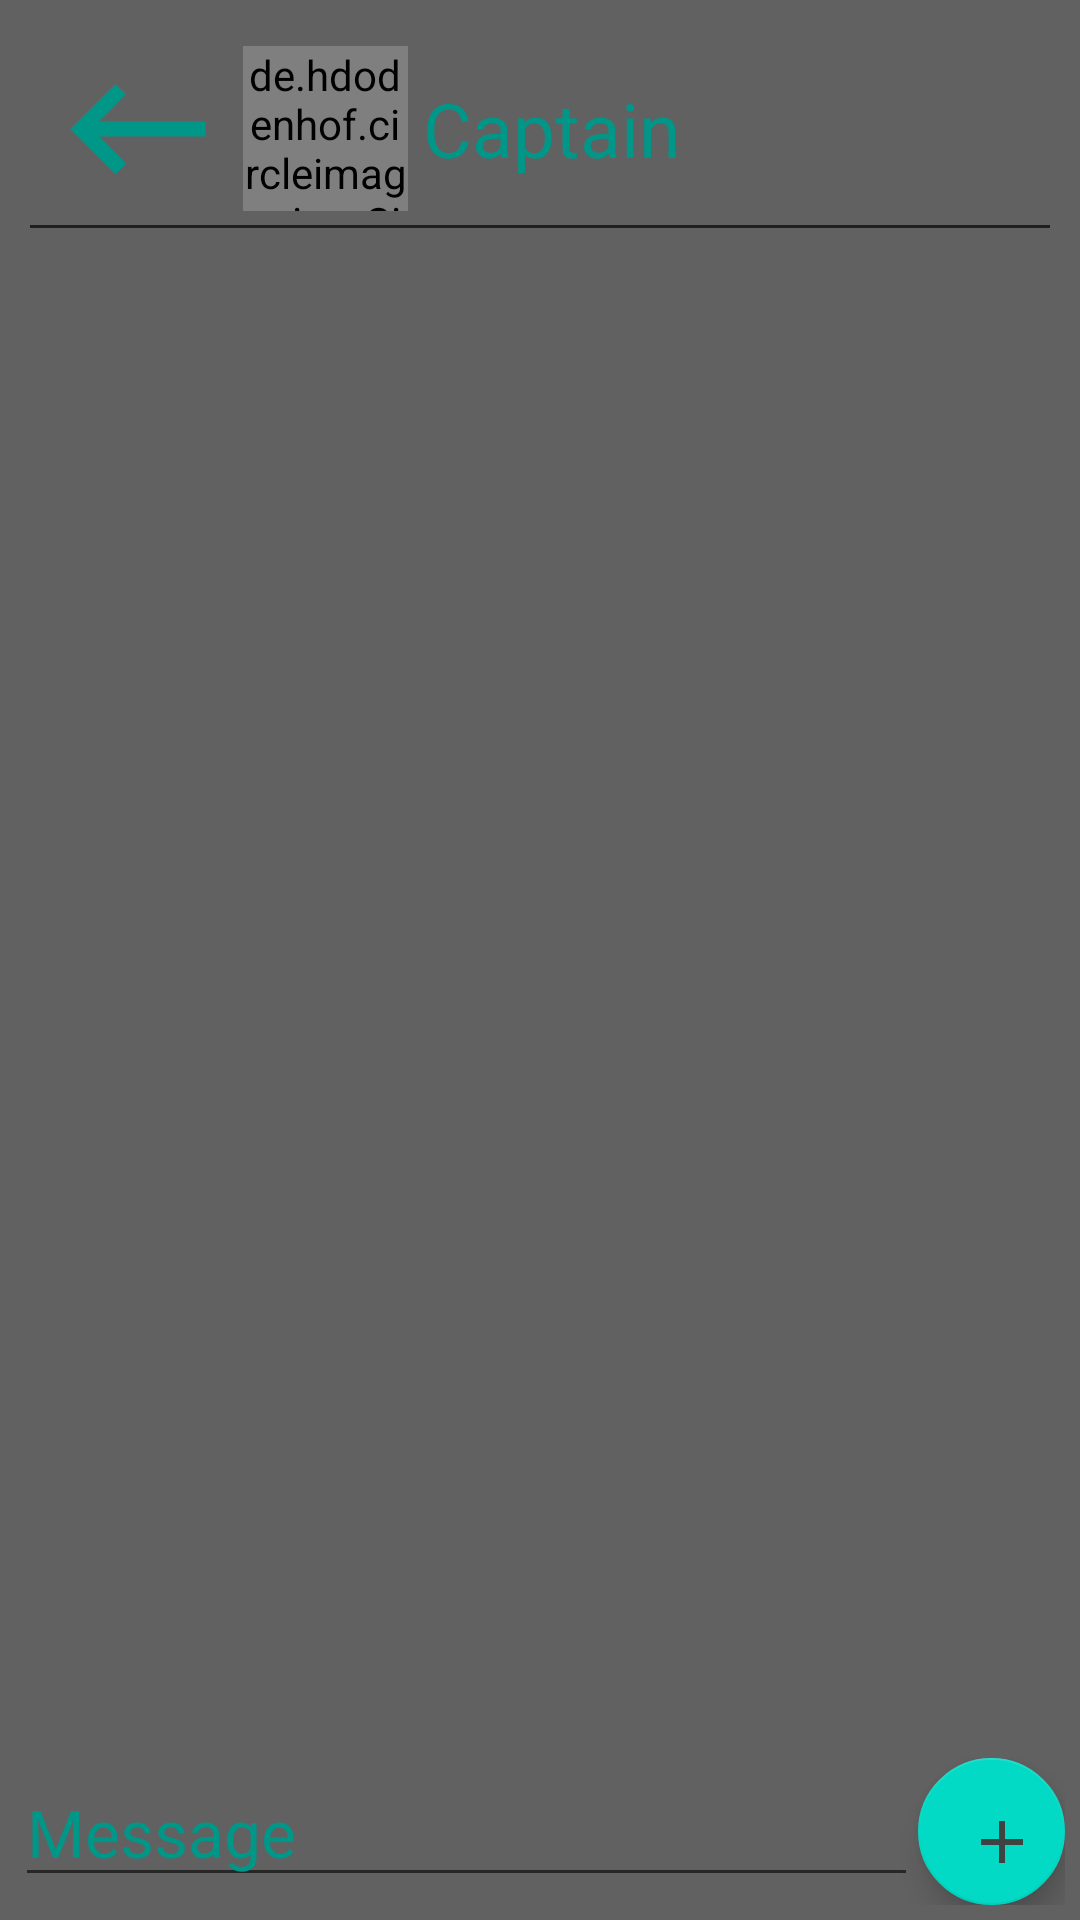

Icons on this 1080 x 1920 Android screen, each with its box as region(x1, y1, x2, y2):
add: region(918, 1758, 1065, 1905)
goback: region(71, 84, 206, 174)
